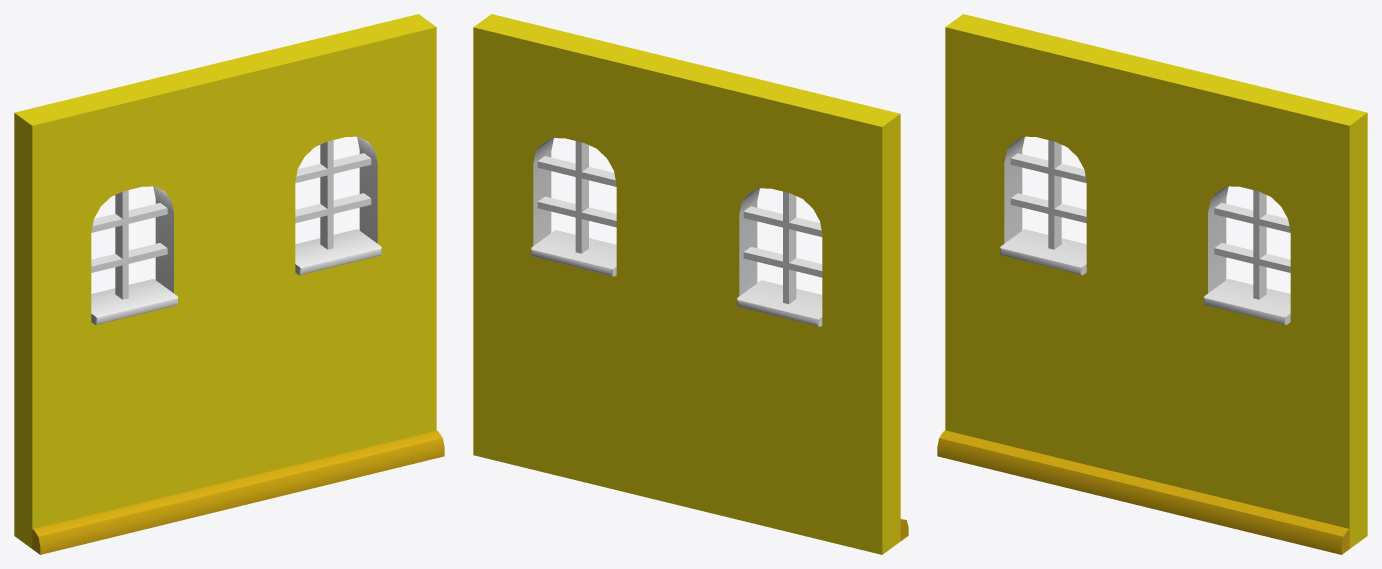
Rendered from Y_Wall001.fbx.
3 views of the same model, side by side, from view 1: azimuth 30°, elevation 25°; view 2: azimuth 150°, elevation 25°; view 3: azimuth 330°, elevation 25° (orthographic).
Parts seen in each view (by area): view 1: Wall001.003; view 2: Wall001.003; view 3: Wall001.003.
Boxes of the visible parts, box(x1,y1,x2,y2) form: Wall001.003: box(14, 14, 444, 554); Wall001.003: box(473, 14, 908, 554); Wall001.003: box(937, 14, 1367, 554).
Bounding box in the file's own units: 250 × 250 × 31.39.
Materials: 1 (1 with a texture image).
